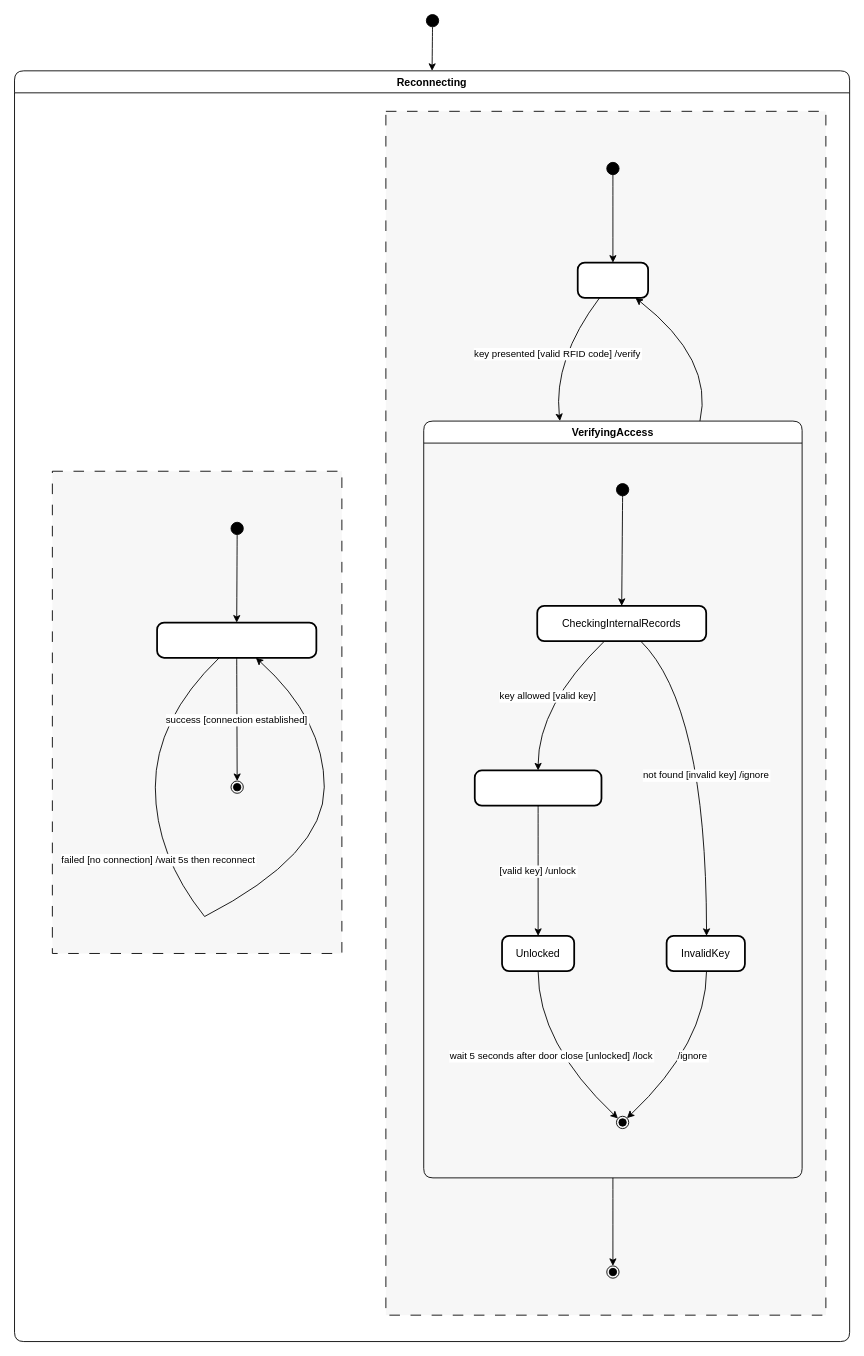
Image size: 864x1356. Some labels were removed from this diagram. Each missing label, with the centre of its shape:
EstablishingConnection: the point at 236,639
KeyAccessVerified: the point at 537,787
Listening: the point at 612,279
